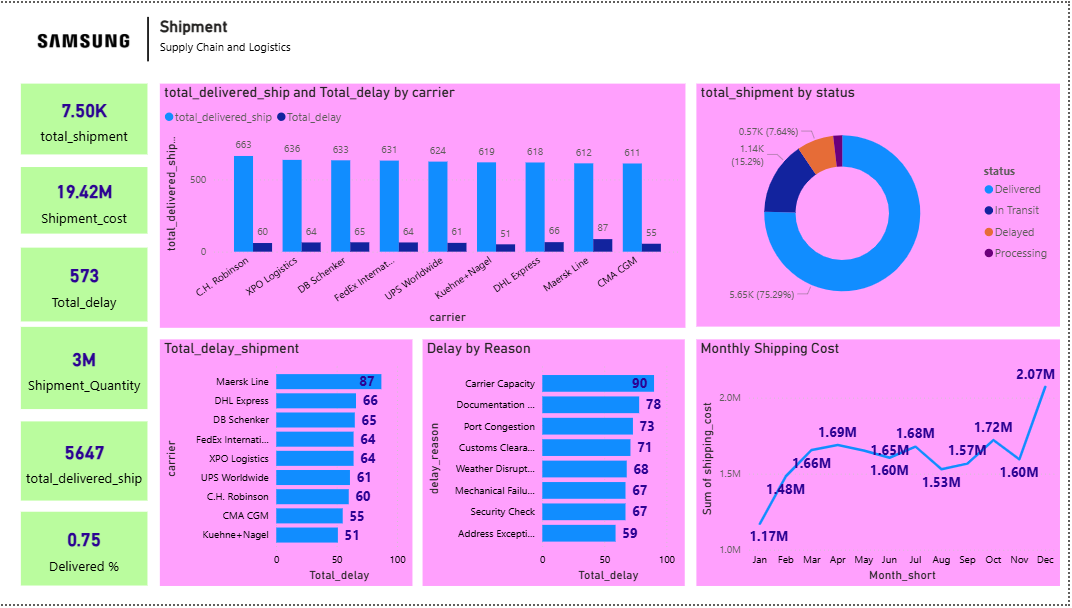

The page's visual inventory and layout, read from the dashboard file:
{"tool":"powerbi","page":{"name":"Shipment","canvas":[1280,720],"ordinal":4},"visuals":[{"type":"shape","title":"Shipment","box":[192,17.2,161.7,46.7],"z":0},{"type":"shape","box":[162.8,17.2,28.3,53.3],"z":1000},{"type":"image","box":[31,24.3,131.4,40],"z":2000},{"type":"card","fields":{"Values":["measurestable.total_shipment"]},"box":[25,96.7,151.7,85],"z":3000},{"type":"card","fields":{"Values":["measurestable.Shipment_cost"]},"box":[25,196.7,151.7,80],"z":4000},{"type":"card","fields":{"Values":["measurestable.Total_delay"]},"box":[25,293.3,151.7,88.3],"z":5000},{"type":"card","fields":{"Values":["measurestable.Total_shipment_Quantity"]},"box":[25,388.3,151.7,98.3],"z":6000},{"type":"card","fields":{"Values":["measurestable.Delivered %"]},"box":[25,610,151.7,88.3],"z":7000},{"type":"card","fields":{"Values":["measurestable.total_delivered_ship"]},"box":[25,501.7,151.7,95],"z":8000},{"type":"clusteredBarChart","title":"Total_delay_shipment","fields":{"Category":["fact_shipment.carrier"],"Y":["measurestable.Total_delay"]},"box":[191.4,402.9,302.9,295.7],"z":9000},{"type":"clusteredColumnChart","fields":{"Y":["measurestable.total_delivered_ship","measurestable.Total_delay"],"Category":["fact_shipment.carrier"]},"box":[191.4,97.1,630,292.9],"z":10000},{"type":"lineChart","title":"Monthly Shipping Cost","fields":{"Y":["Sum(fact_shipment.shipping_cost)"],"Category":["dim_date.Month_short"]},"box":[834.3,402.9,435.7,295.7],"z":11000},{"type":"clusteredBarChart","title":"Delay by Reason","fields":{"Category":["fact_shipment.delay_reason"],"Y":["measurestable.Total_delay"]},"box":[507.1,402.9,314.3,295.7],"z":12000},{"type":"donutChart","fields":{"Category":["fact_shipment.status"],"Y":["measurestable.total_shipment"]},"box":[835.7,97.1,435.7,291.4],"z":13000}]}

Visuals, with their boxes in screenshot pixels (x1, y1, x2, y2), scaled from the page's 1280x720 canvas onto the 1072x608 screenshot:
"Shipment" shape: (161,15,296,54)
shape: (136,15,160,60)
image: (26,21,136,54)
card - measurestable.total_shipment: (21,82,148,153)
card - measurestable.Shipment_cost: (21,166,148,234)
card - measurestable.Total_delay: (21,248,148,322)
card - measurestable.Total_shipment_Quantity: (21,328,148,411)
card - measurestable.Delivered %: (21,515,148,590)
card - measurestable.total_delivered_ship: (21,424,148,504)
"Total_delay_shipment" clusteredBarChart: (160,340,414,590)
clusteredColumnChart - measurestable.total_delivered_ship x measurestable.Total_delay: (160,82,688,329)
"Monthly Shipping Cost" lineChart: (699,340,1064,590)
"Delay by Reason" clusteredBarChart: (425,340,688,590)
donutChart - fact_shipment.status x measurestable.total_shipment: (700,82,1065,328)
